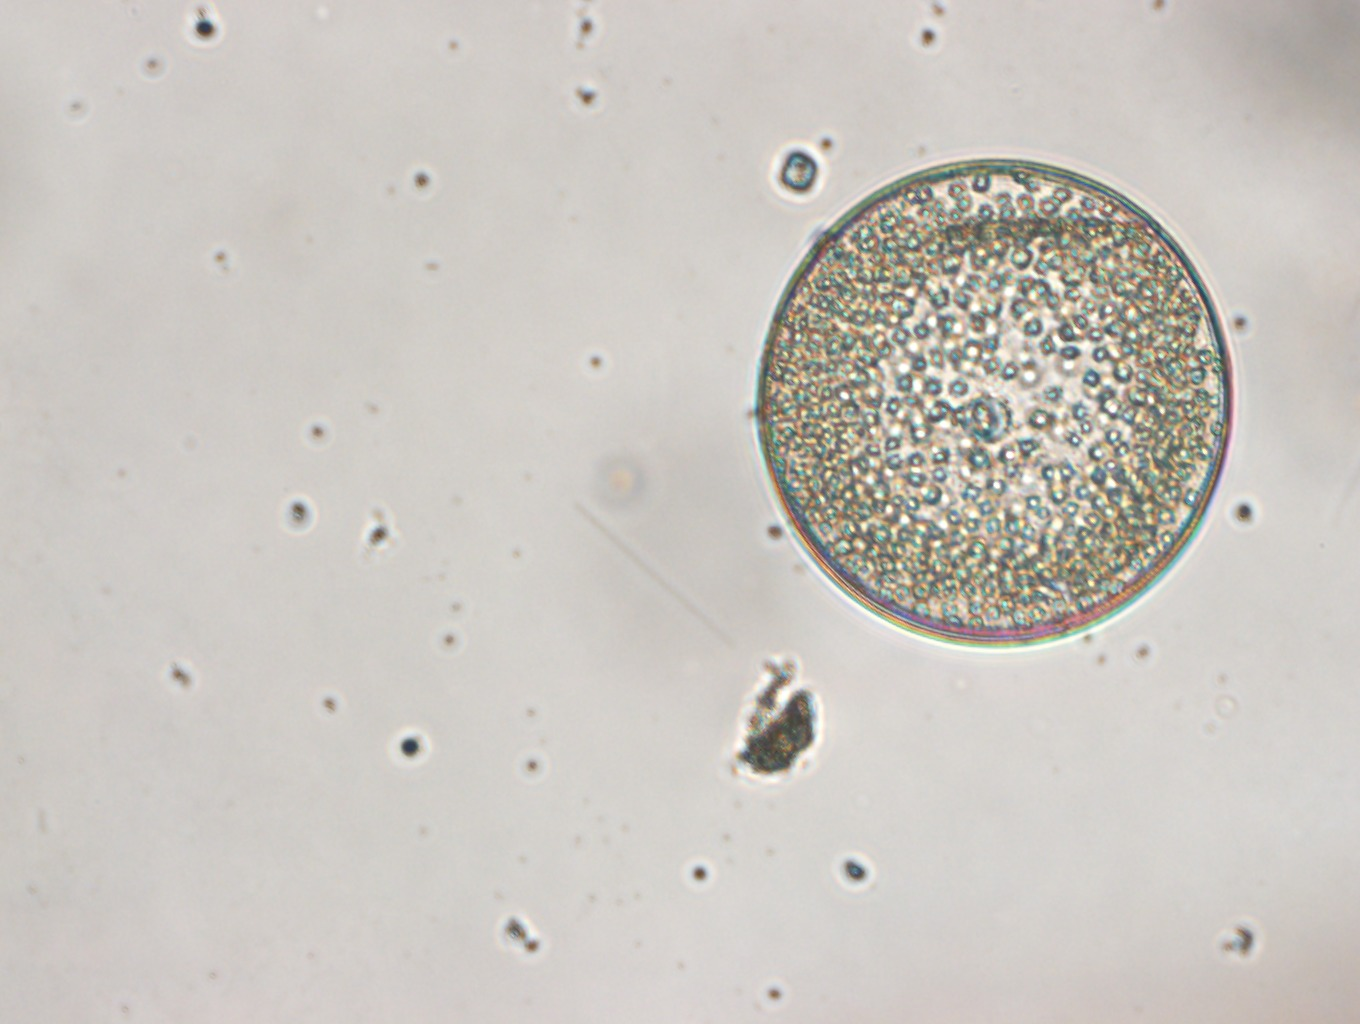coscinodiscus: (746, 146, 1239, 648)
